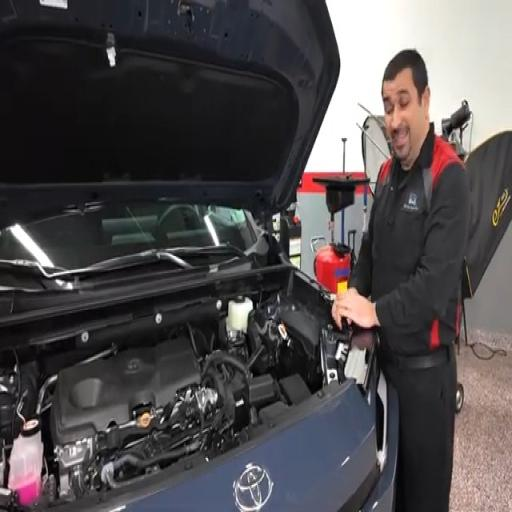bumper: (108, 384, 397, 511), (361, 386, 399, 511)
emblem: (234, 464, 273, 511)
hood: (0, 0, 339, 226)
wheel: (156, 204, 200, 240)
windshield: (0, 202, 255, 270)
